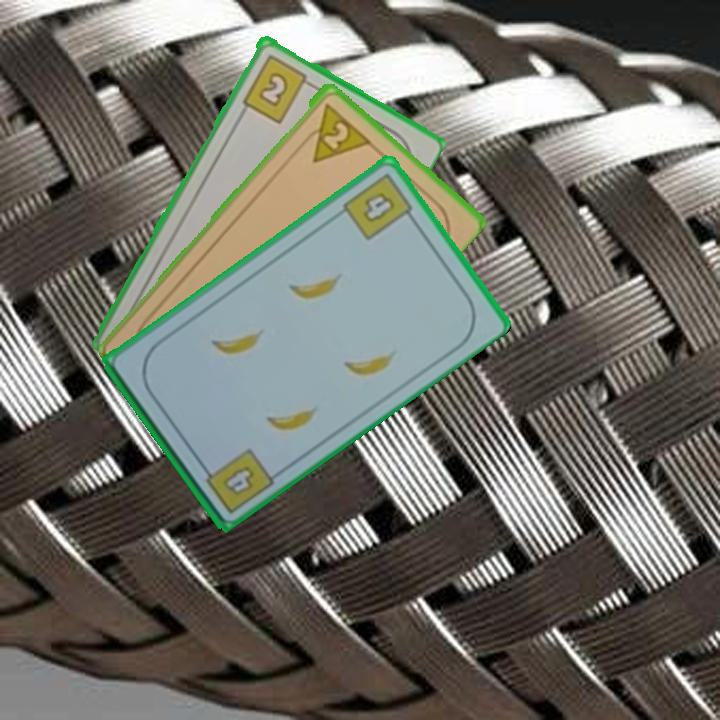2b: (238, 50, 317, 126)
2p: (296, 97, 372, 165)
4b: (338, 169, 419, 244), (196, 444, 277, 517)
